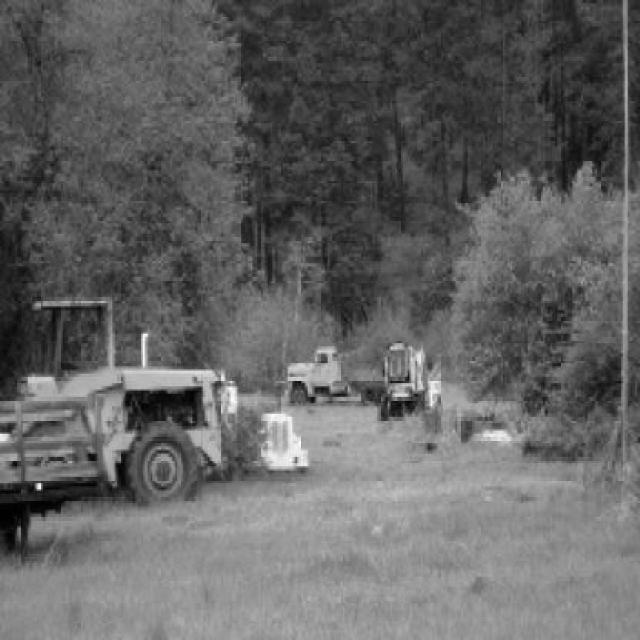Construction Equipment: (21, 301, 229, 507)
